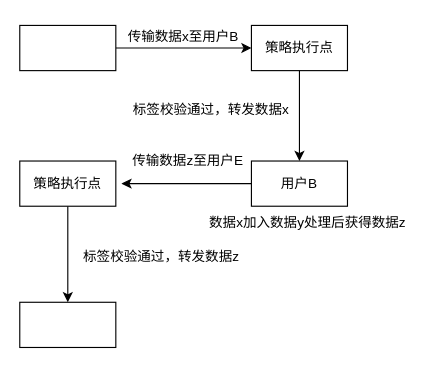
Some shapes in this 446 by 367 pixel diagram are drawn without their labels. The shapes that lost their labels are listed below. From the top down, each one's centre as x and y in pixels, then its label:
At (x=67, y=47): "用户A".
At (x=67, y=324): "用户E".
